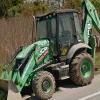Tractor: (6, 9, 100, 92)
